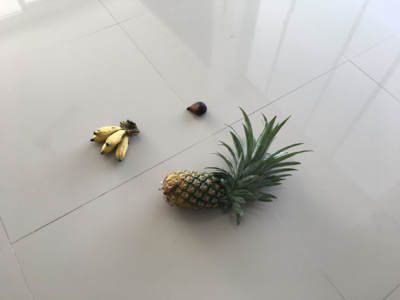banana: (89, 120, 140, 164)
pineapple: (160, 109, 311, 227)
snake fruit: (187, 102, 207, 116)
